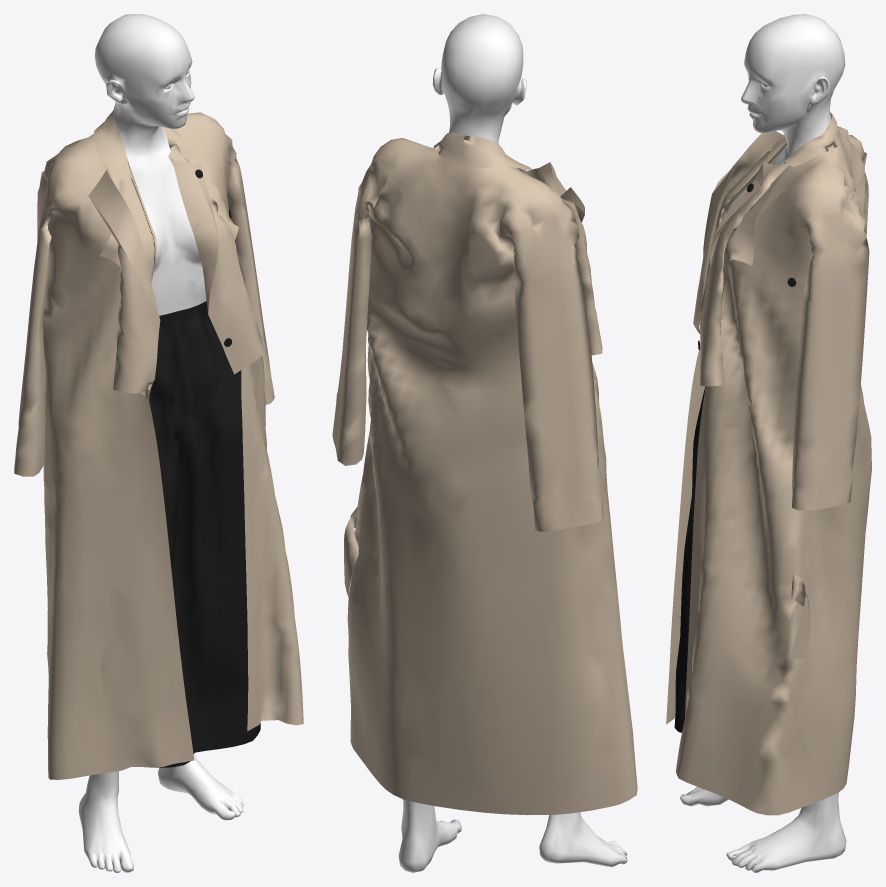
The model's file is martin3.fbx.
3 renders of one model, left to right at view 1: azimuth 30°, elevation 25°; view 2: azimuth 150°, elevation 25°; view 3: azimuth 270°, elevation 25°, orthographic. The views are drawn at different scales.
Parts seen in each view (by area): view 1: Martin3; view 2: Martin3; view 3: Martin3.
Part boxes in pixels (<box>): Martin3: <box>14,14,303,872</box>; Martin3: <box>332,14,637,872</box>; Martin3: <box>666,14,871,872</box>.
Bounding box in the file's own units: 65.05 × 195 × 44.47.
